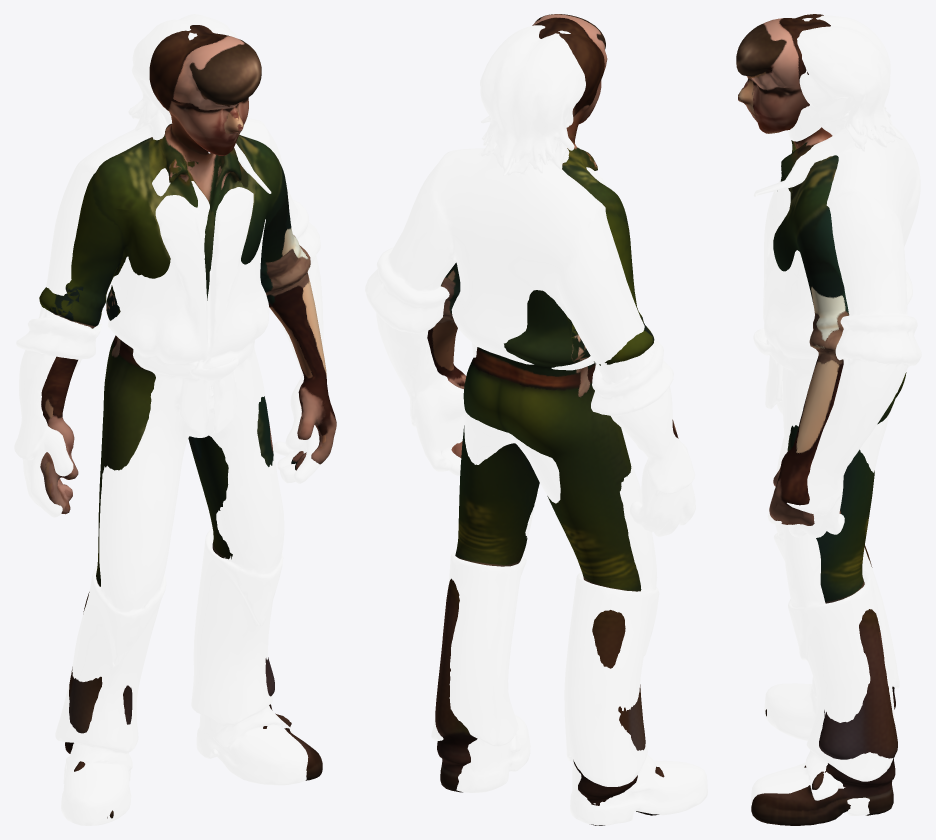
Rendered from druid_wrapped.glb.
3 views of the same model, side by side, from view 1: azimuth 30°, elevation 25°; view 2: azimuth 150°, elevation 25°; view 3: azimuth 270°, elevation 25° (orthographic).
Visible parts, largest first — view 1: Outfit, Body; view 2: Outfit, Body; view 3: Outfit, Body.
Boxes of the visible parts, <box> form: Outfit: <box>14,14,323,825</box>; Body: <box>39,25,336,818</box>; Outfit: <box>365,25,707,825</box>; Body: <box>427,14,678,825</box>; Outfit: <box>751,15,921,815</box>; Body: <box>736,14,906,825</box>.
Size of the model in its own units: 0.7909 by 1.85 by 0.4116.
Materials: 2 (1 with a texture image).
